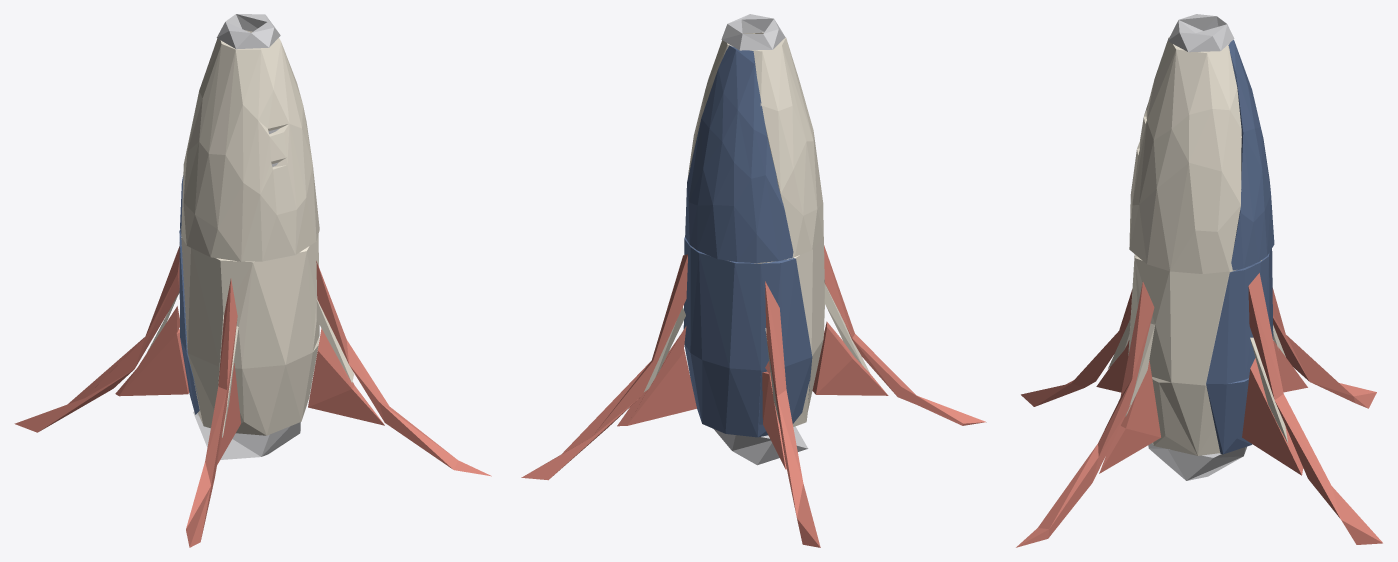
Rendered from rocket_d2_lod1.glb.
The picture shows the model from 3 angles, left to right: view 1: azimuth 30°, elevation 25°; view 2: azimuth 150°, elevation 25°; view 3: azimuth 270°, elevation 25°; orthographic projection. The views are drawn at different scales.
Parts seen in each view (by area): view 1: CreamNose, Cream, Vermilion, NickelNose, NickelCap, Navy; view 2: Navy, Vermilion, NavyNose, CreamNose, Cream, NickelNose, NickelCap; view 3: CreamNose, Vermilion, Cream, Navy, NavyNose, NickelNose, NickelCap.
Boxes of the visible parts, bbox=[...] form: CreamNose: bbox=[181, 30, 319, 261]; Cream: bbox=[147, 234, 354, 437]; Vermilion: bbox=[14, 246, 491, 547]; NickelNose: bbox=[216, 14, 280, 166]; NickelCap: bbox=[193, 411, 300, 459]; Navy: bbox=[179, 230, 199, 414]; Navy: bbox=[683, 237, 812, 437]; Vermilion: bbox=[521, 245, 986, 547]; NavyNose: bbox=[685, 45, 793, 262]; CreamNose: bbox=[687, 32, 823, 262]; Cream: bbox=[644, 236, 869, 435]; NickelNose: bbox=[721, 14, 785, 50]; NickelCap: bbox=[714, 426, 808, 465]; CreamNose: bbox=[1129, 37, 1241, 273]; Vermilion: bbox=[1016, 273, 1382, 547]; Cream: bbox=[1108, 254, 1288, 455]; Navy: bbox=[1206, 249, 1273, 454]; NavyNose: bbox=[1228, 40, 1274, 270]; NickelNose: bbox=[1168, 14, 1234, 52]; NickelCap: bbox=[1148, 443, 1246, 480].
Size of the model in its own units: 0.1679 by 0.2264 by 0.168.
